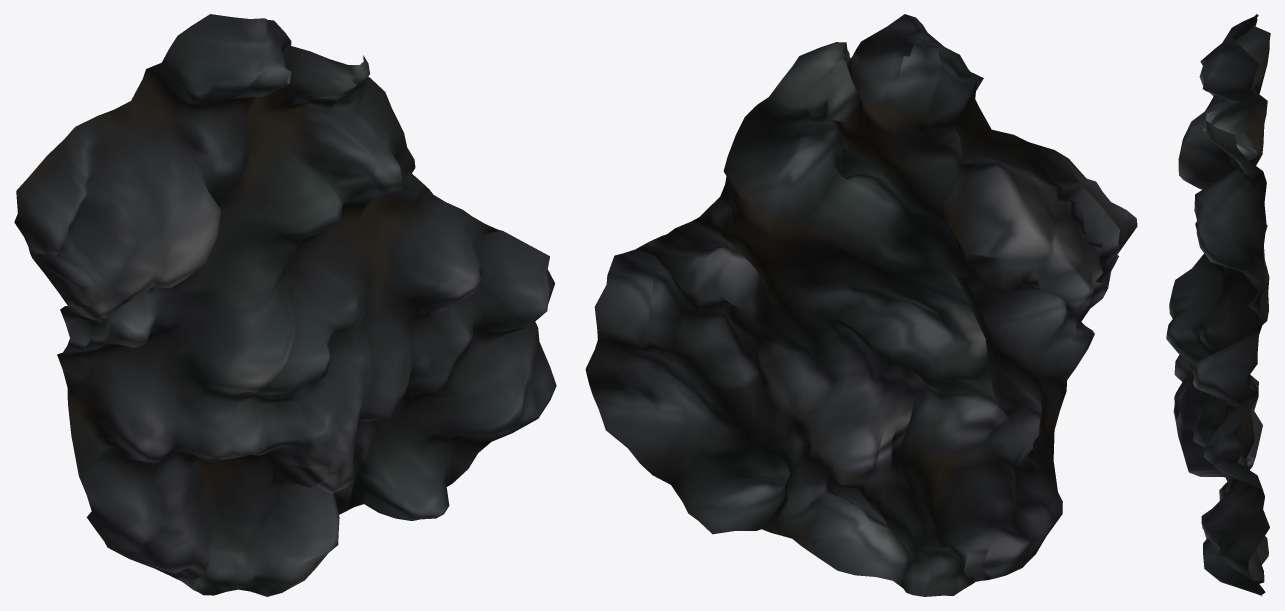
The model's file is Mussels04.fbx.
3 views of the same model, side by side, from view 1: azimuth 30°, elevation 25°; view 2: azimuth 150°, elevation 25°; view 3: azimuth 270°, elevation 25° (orthographic). The views are drawn at different scales.
Parts seen in each view (by area): view 1: Mussels04; view 2: Mussels04; view 3: Mussels04.
Boxes of the visible parts, x1,y1,x2,y2 form: Mussels04: (14, 14, 556, 596); Mussels04: (585, 14, 1137, 596); Mussels04: (1166, 14, 1270, 596).
Bounding box in the file's own units: 54.53 × 56.51 × 10.45.
